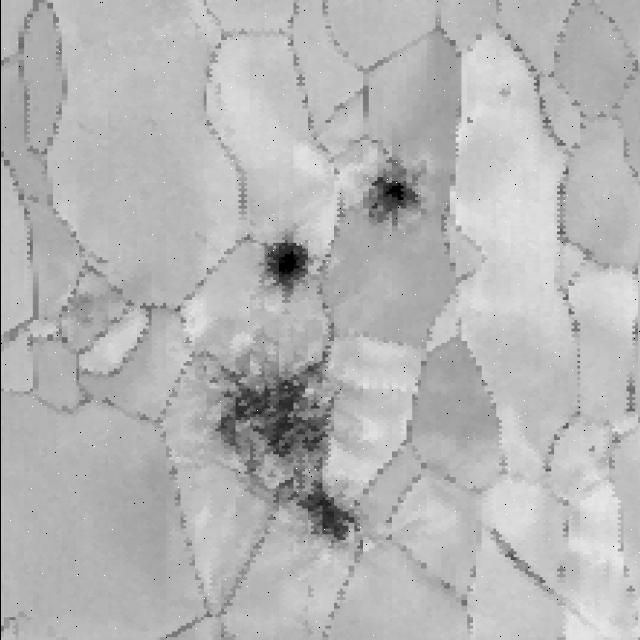good_void: (207, 351, 362, 551), (344, 159, 423, 241), (252, 226, 324, 306), (62, 283, 131, 331), (491, 84, 515, 104), (582, 442, 600, 458), (459, 115, 479, 129)
